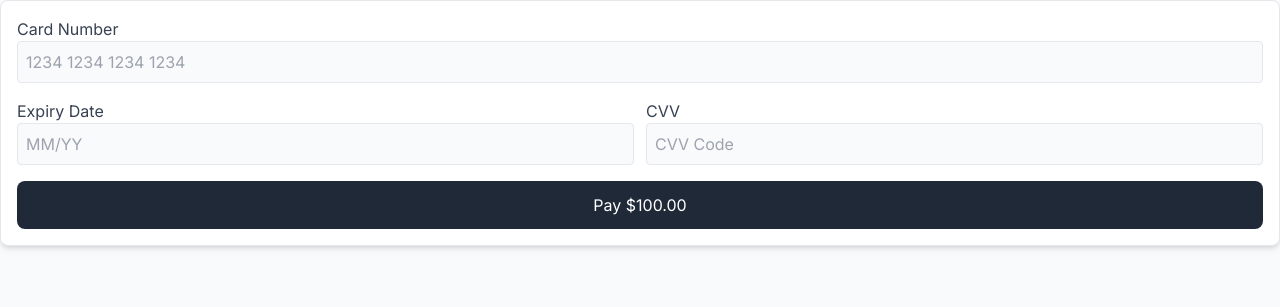
Scenario: PaymentCard Component › validates expiry date input
// Enter invalid expiry date
Type "13/25" into the field labelled "Expiry Date". click: (326, 144)
box: [17,123,634,165]
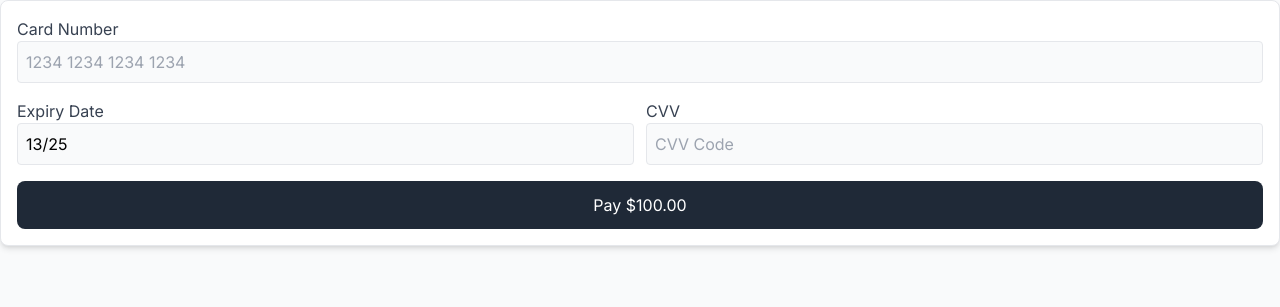
Submit the form
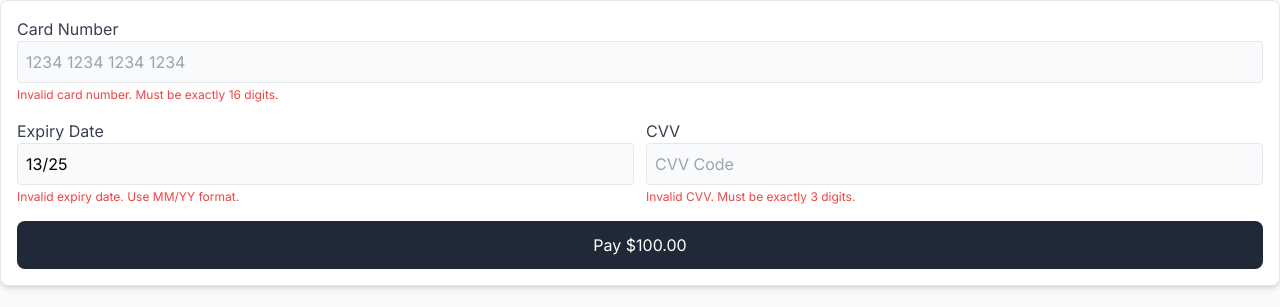
expect the text "Invalid expiry date. Use MM/YY format." is shown: met, box [17,189,239,204]
